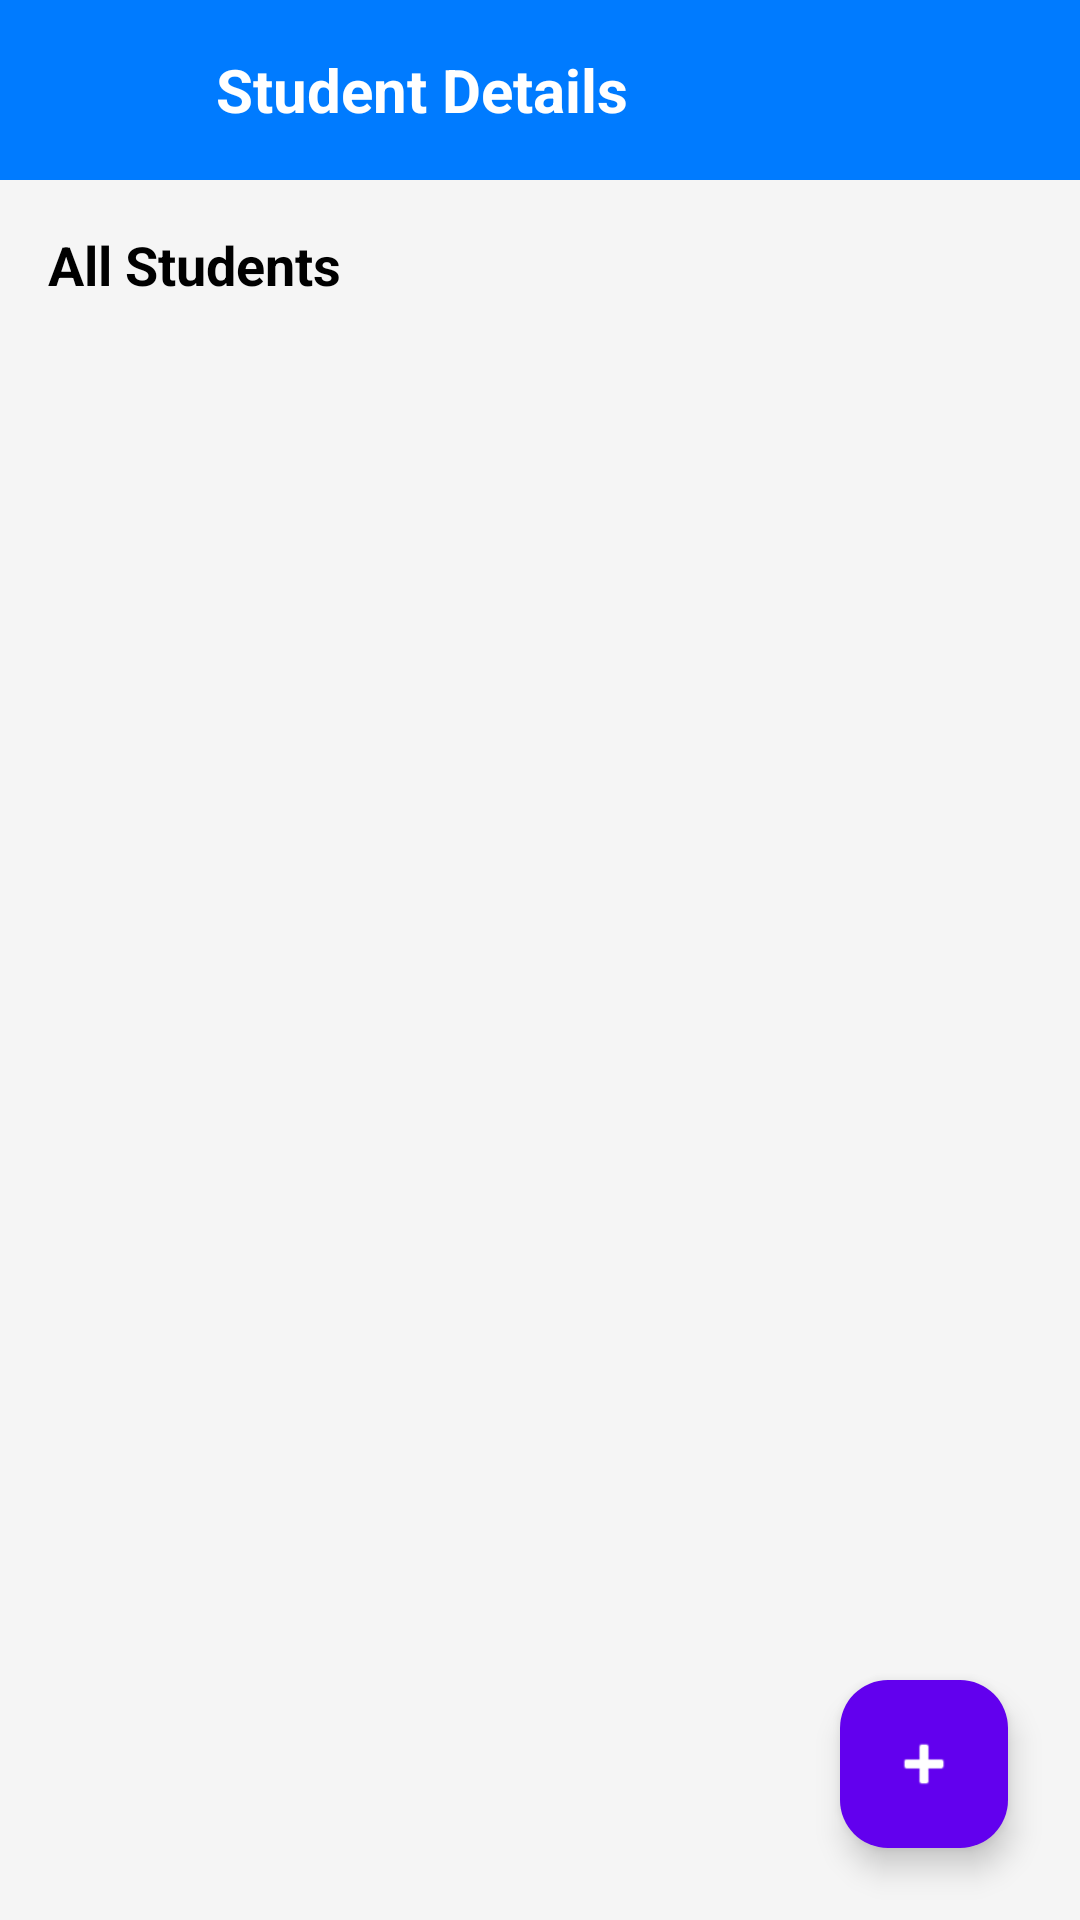

Named icons in this screenshot (1080 × 1920) and their centers, point (x, y):
Add Student: point (924, 1764)
